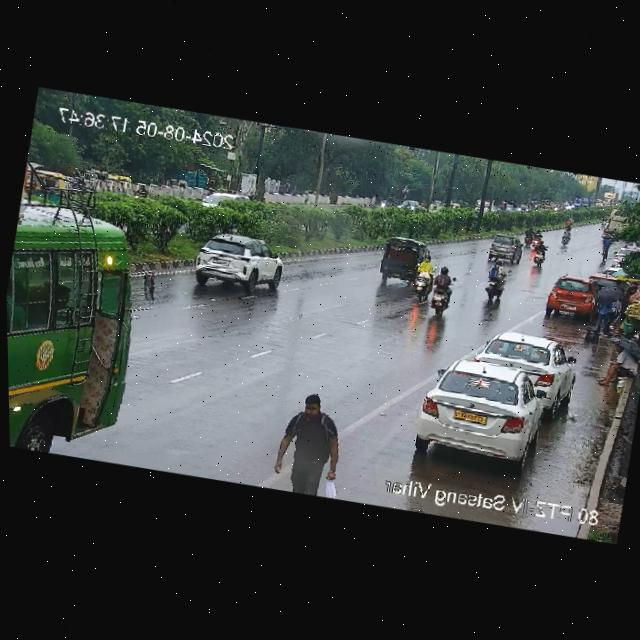bus: (4, 186, 158, 451)
car: (408, 352, 569, 474), (475, 327, 578, 400), (189, 230, 288, 299), (367, 236, 430, 286), (544, 274, 598, 318), (193, 186, 253, 216), (481, 230, 528, 265)
motorcycle: (418, 265, 458, 316), (478, 260, 514, 304), (514, 225, 547, 252), (524, 240, 548, 269), (557, 219, 575, 247)
person: (282, 390, 347, 481), (594, 342, 640, 389), (595, 228, 615, 263)
